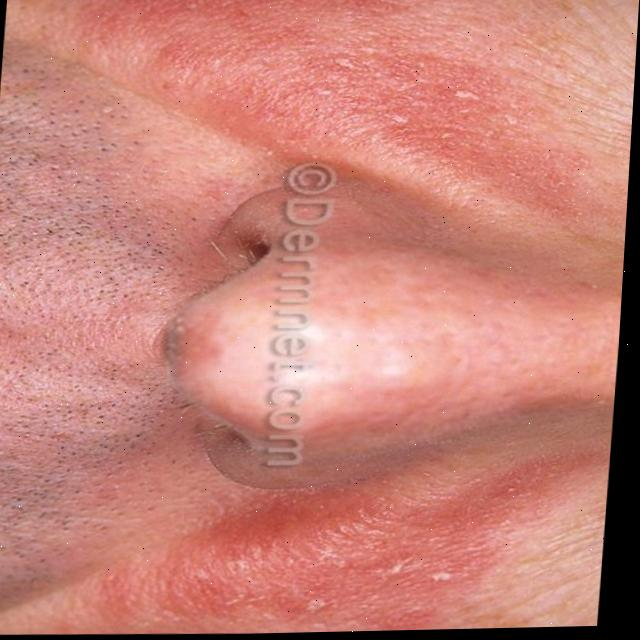Rosacea: (66, 0, 626, 235), (100, 435, 594, 637)
